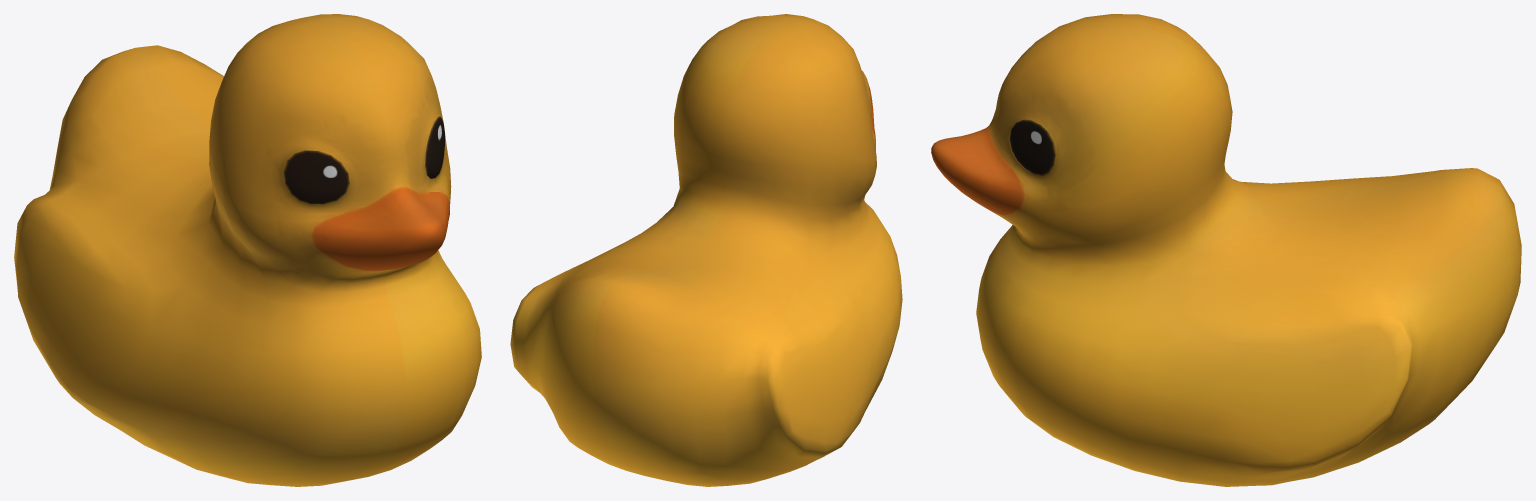
Rendered from kacsa.glb.
The picture shows the model from 3 angles, left to right: view 1: azimuth 30°, elevation 25°; view 2: azimuth 150°, elevation 25°; view 3: azimuth 270°, elevation 25°; orthographic projection. The views are drawn at different scales.
Parts seen in each view (by area): view 1: Cube; view 2: Cube; view 3: Cube.
Boxes of the visible parts, bbox=[...] form: Cube: bbox=[14, 14, 481, 486]; Cube: bbox=[510, 14, 902, 486]; Cube: bbox=[931, 14, 1521, 486].
Size of the model in its own units: 305 by 405 by 496.
1 material, 1 textured.
